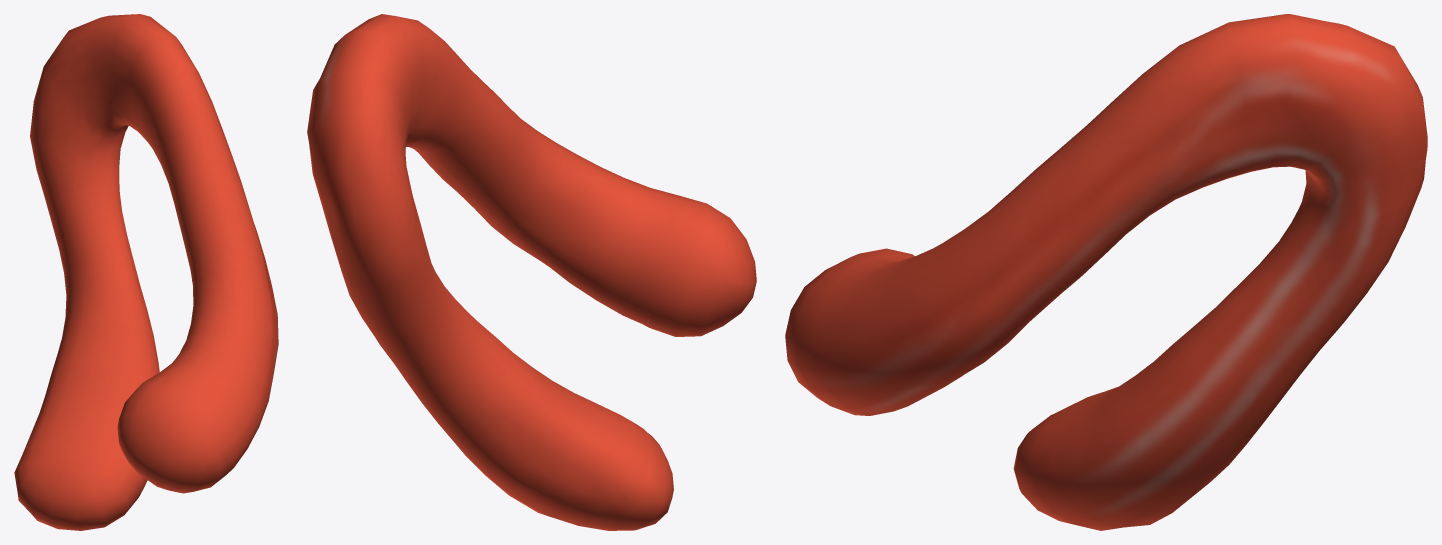
File: Orbicularis.glb
3 renders of one model, left to right at view 1: azimuth 30°, elevation 25°; view 2: azimuth 150°, elevation 25°; view 3: azimuth 270°, elevation 25°, orthographic. The views are drawn at different scales.
Visible parts, largest first — view 1: Orbicularis.glb; view 2: Orbicularis.glb; view 3: Orbicularis.glb.
Part boxes in pixels (box(x1,y1,x2,y2)): Orbicularis.glb: box(14, 14, 278, 530); Orbicularis.glb: box(307, 14, 756, 530); Orbicularis.glb: box(785, 14, 1427, 530).
Size of the model in its own units: 0.0585 by 0.1108 by 0.1102.
Materials: 1 (1 with a texture image).
